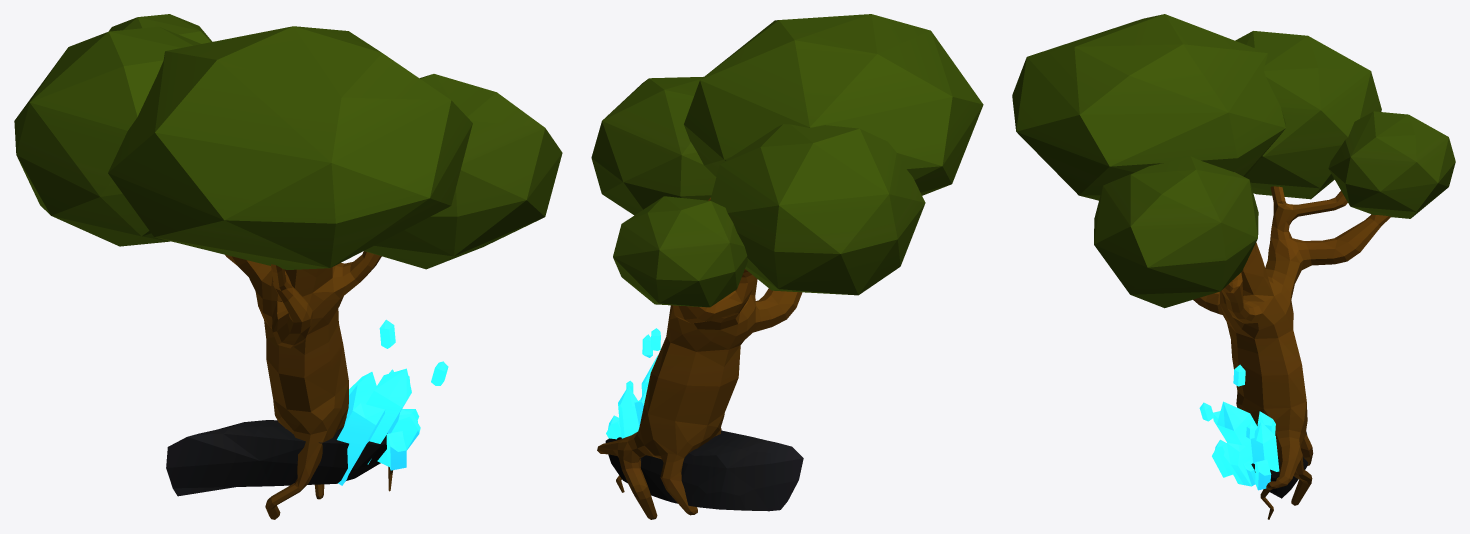
File: arbol1.fbx
3 views of the same model, side by side, from view 1: azimuth 30°, elevation 25°; view 2: azimuth 150°, elevation 25°; view 3: azimuth 270°, elevation 25° (orthographic). The views are drawn at different scales.
Visible parts, largest first — view 1: Arbol_Roca1; view 2: Arbol_Roca1; view 3: Arbol_Roca1.
Part boxes in pixels (left/top/right/bottom): Arbol_Roca1: left=14, top=14, right=562, bottom=519; Arbol_Roca1: left=591, top=14, right=983, bottom=519; Arbol_Roca1: left=1012, top=14, right=1455, bottom=519.
Bounding box in the file's own units: 326 × 384 × 364.
